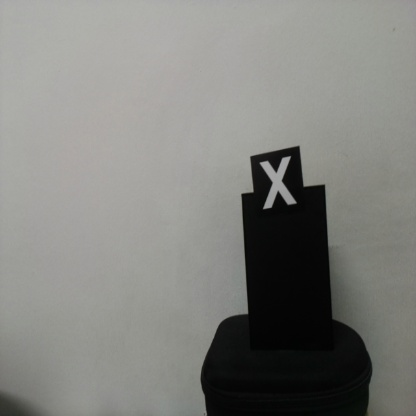id_13: (250, 155, 304, 219)
